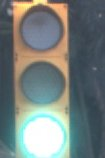Green: (13, 1, 73, 158)
